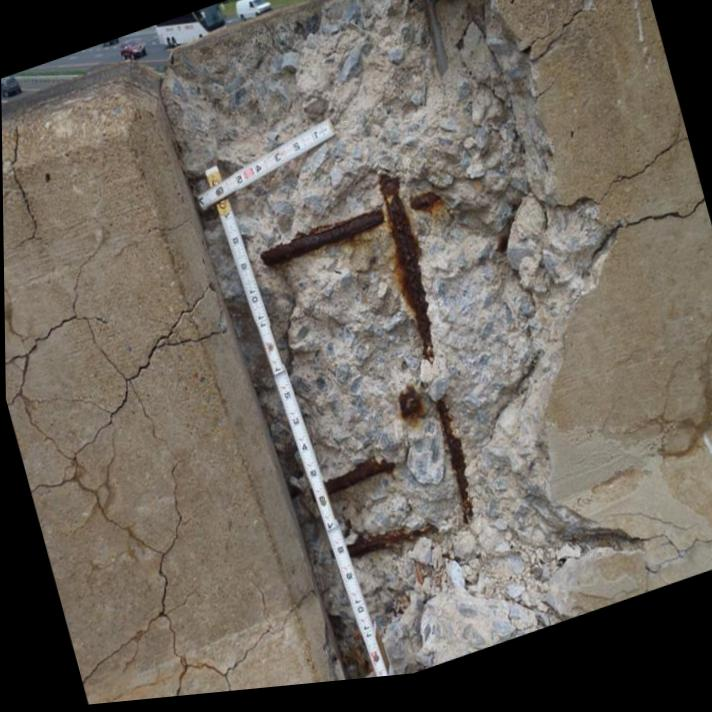crack: (4, 288, 227, 417), (80, 460, 189, 688), (21, 399, 163, 557), (186, 584, 314, 696), (33, 228, 110, 347), (596, 120, 688, 214), (590, 211, 704, 273), (9, 125, 48, 250), (531, 3, 588, 75), (159, 594, 193, 700), (111, 220, 191, 260), (639, 545, 712, 587), (128, 383, 167, 452), (609, 525, 695, 543), (525, 34, 561, 69), (105, 685, 155, 705), (533, 79, 560, 116)
damage: (162, 0, 634, 683)
